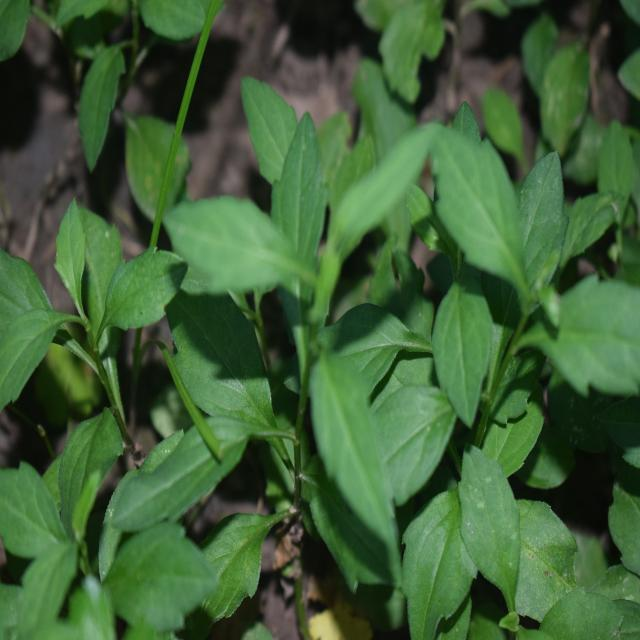Indian aster: (160, 101, 444, 583), (1, 183, 179, 475)
